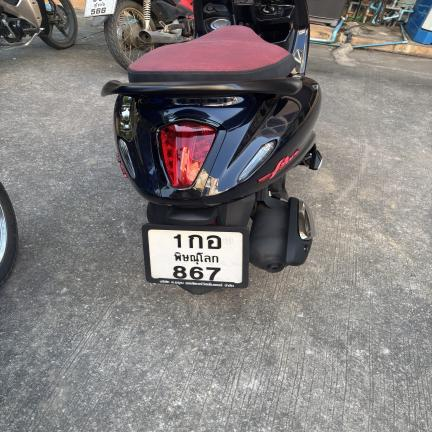1: (169, 232, 184, 249)
6: (188, 265, 205, 280)
7: (205, 266, 222, 281)
8: (172, 265, 187, 279)
A01: (186, 233, 204, 249)
A43: (205, 233, 223, 250)
PLK: (172, 250, 221, 265)
